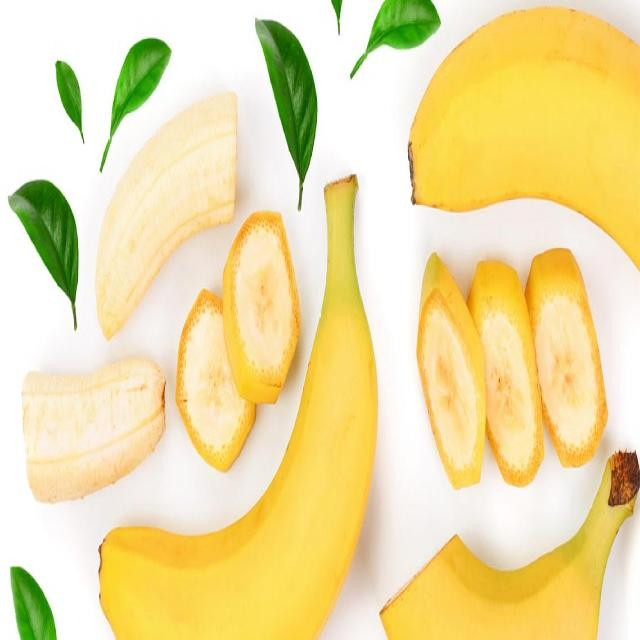banana: (94, 172, 379, 640), (406, 4, 640, 253), (380, 462, 633, 640), (96, 88, 241, 343), (18, 366, 167, 502), (416, 253, 485, 490), (538, 245, 610, 470), (221, 213, 298, 404), (175, 294, 256, 472), (484, 256, 542, 484)
